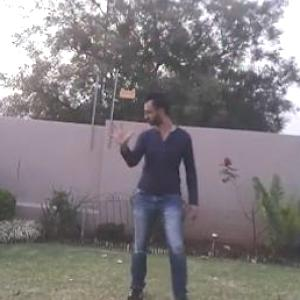follow_hand: (104, 115, 137, 147)
